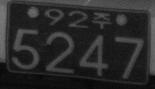2: (45, 30, 74, 74), (68, 9, 88, 29)
4: (79, 33, 108, 75)
5: (10, 28, 39, 70)
7: (114, 34, 144, 79)
9: (44, 7, 64, 26)
주: (92, 11, 111, 28)
